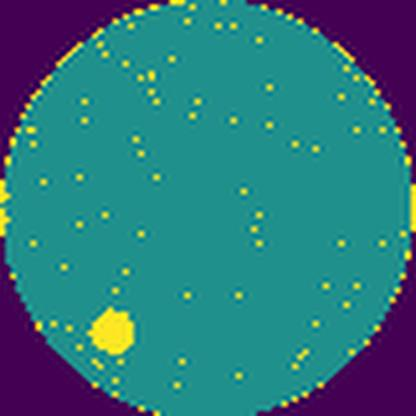Loc: (88, 310, 135, 355)
